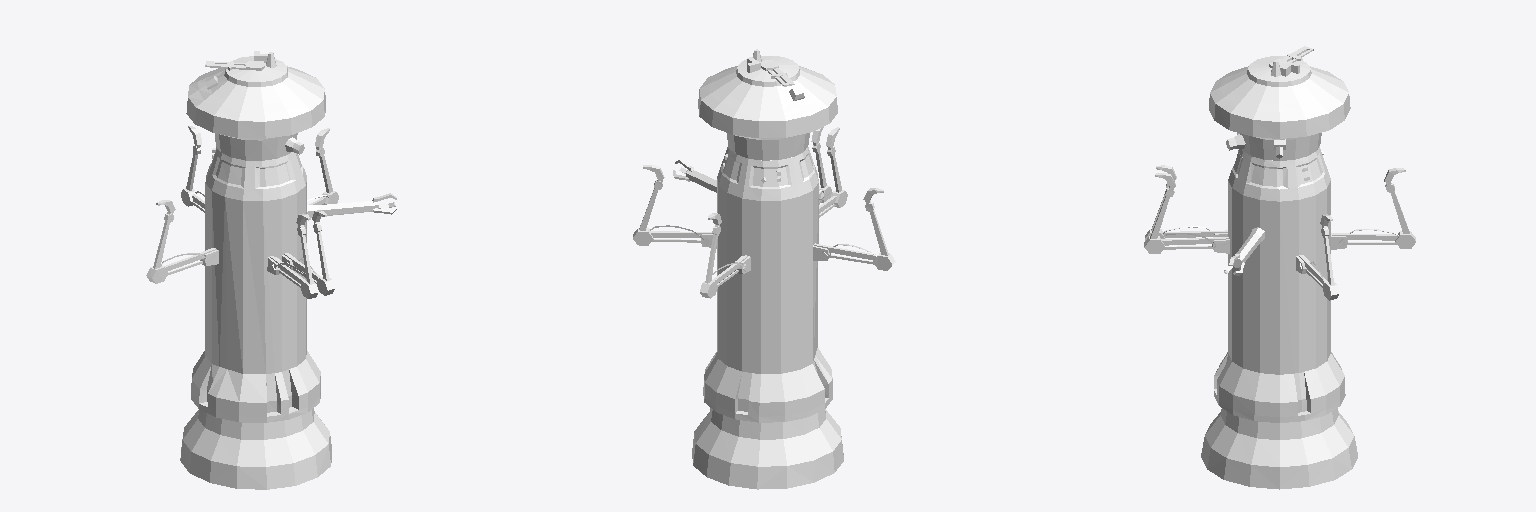
3 renders of one model, left to right at view 1: azimuth 30°, elevation 25°; view 2: azimuth 150°, elevation 25°; view 3: azimuth 270°, elevation 25°, orthographic.
Visible parts, largest first — view 1: Mesh4_b_body, Mesh5_b_head, Mesh3_b_base, Mesh2_b_arms; view 2: Mesh4_b_body, Mesh5_b_head, Mesh3_b_base, Mesh2_b_arms; view 3: Mesh4_b_body, Mesh5_b_head, Mesh3_b_base, Mesh2_b_arms.
Boxes of the visible parts, x1,y1,x2,y2 form: Mesh4_b_body: [191, 147, 397, 422]; Mesh5_b_head: [186, 51, 325, 160]; Mesh3_b_base: [180, 408, 331, 489]; Mesh2_b_arms: [146, 126, 338, 298]; Mesh4_b_body: [673, 147, 832, 422]; Mesh5_b_head: [698, 49, 837, 160]; Mesh3_b_base: [692, 408, 843, 489]; Mesh2_b_arms: [633, 127, 895, 298]; Mesh4_b_body: [1214, 146, 1345, 422]; Mesh5_b_head: [1209, 46, 1350, 160]; Mesh3_b_base: [1201, 408, 1357, 489]; Mesh2_b_arms: [1144, 165, 1415, 300].
Size of the model in its own units: 1.48 by 2.43 by 1.5.